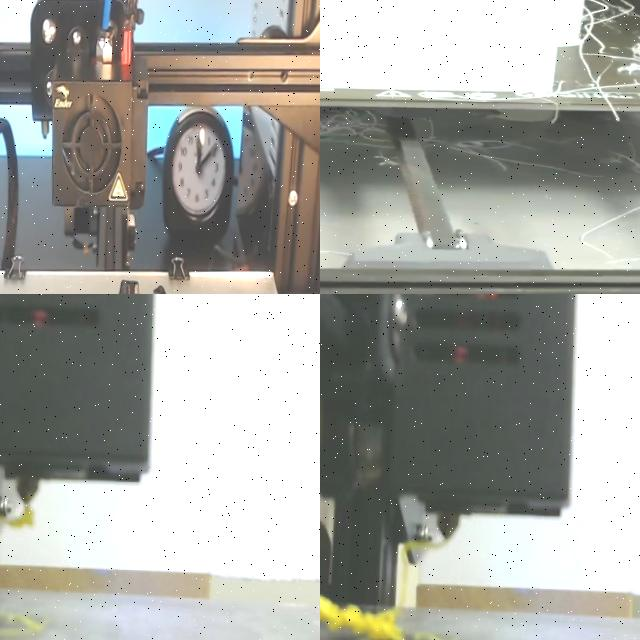spaghetti: (320, 0, 640, 92), (320, 115, 571, 170), (320, 595, 405, 640), (0, 503, 33, 527)
